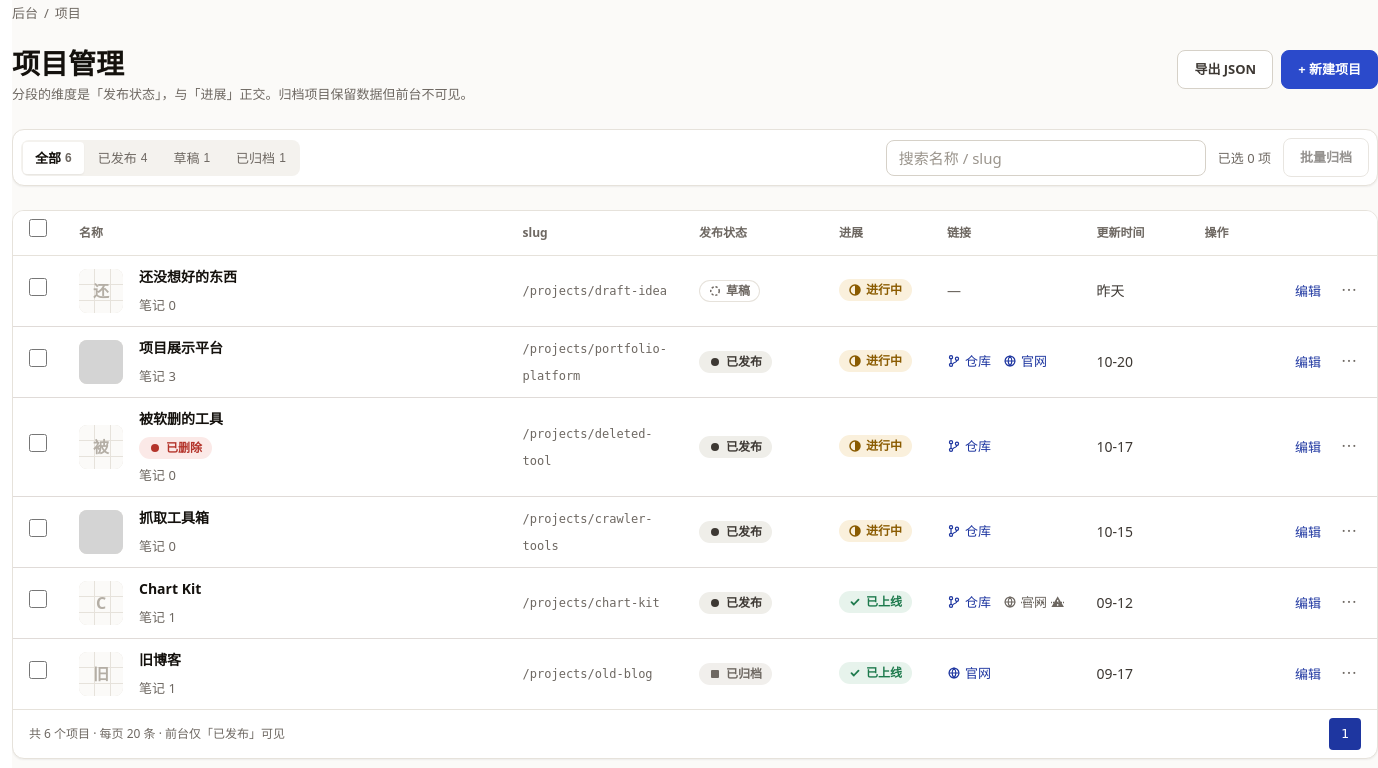
ProjectListView › 批量归档：确认后把选中项全部归档
The image size is (1378, 768).
Expected: the link "项目展示平台" is shown, [139,334,223,360]
Click the checkbox named "选择 项目展示平台": (38, 358) [29,348,47,366]
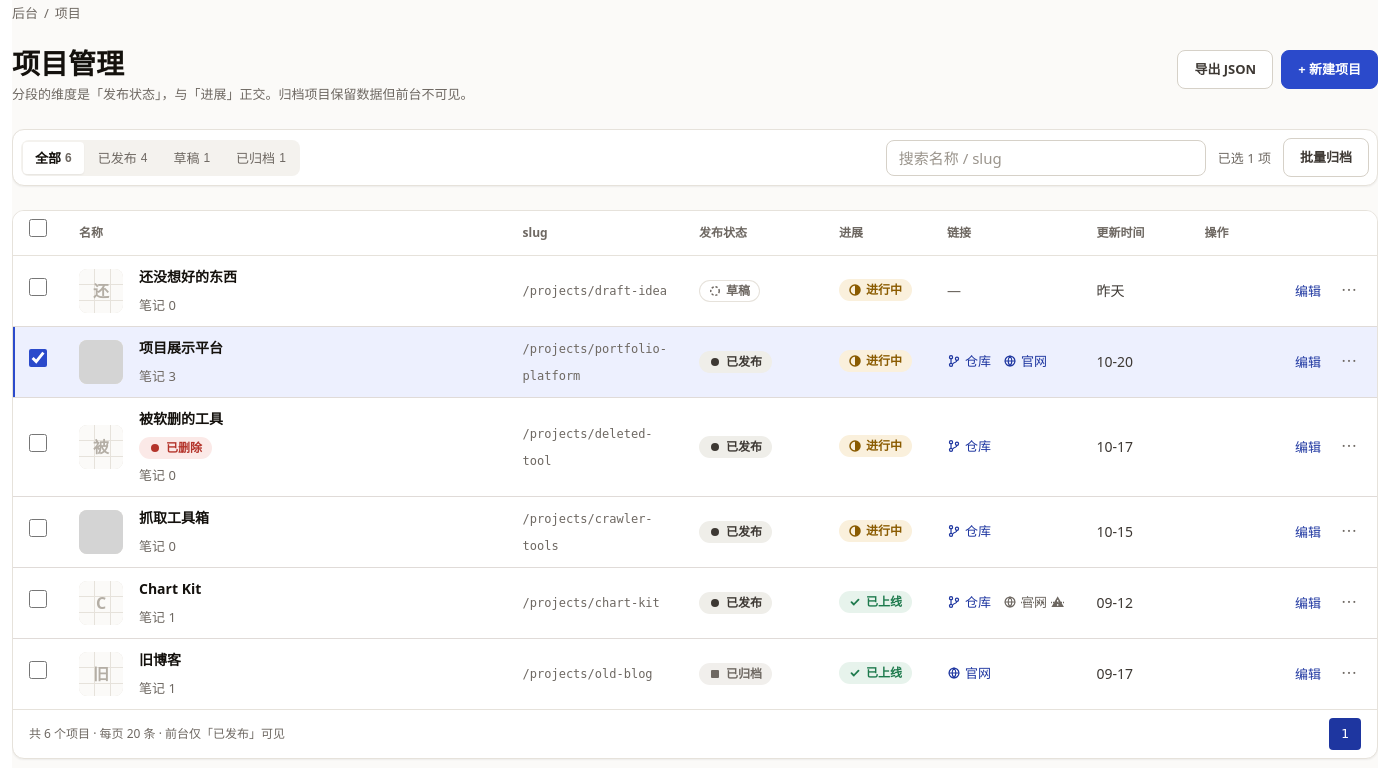
Click the button "批量归档": (1326, 158) [1283,138,1369,177]
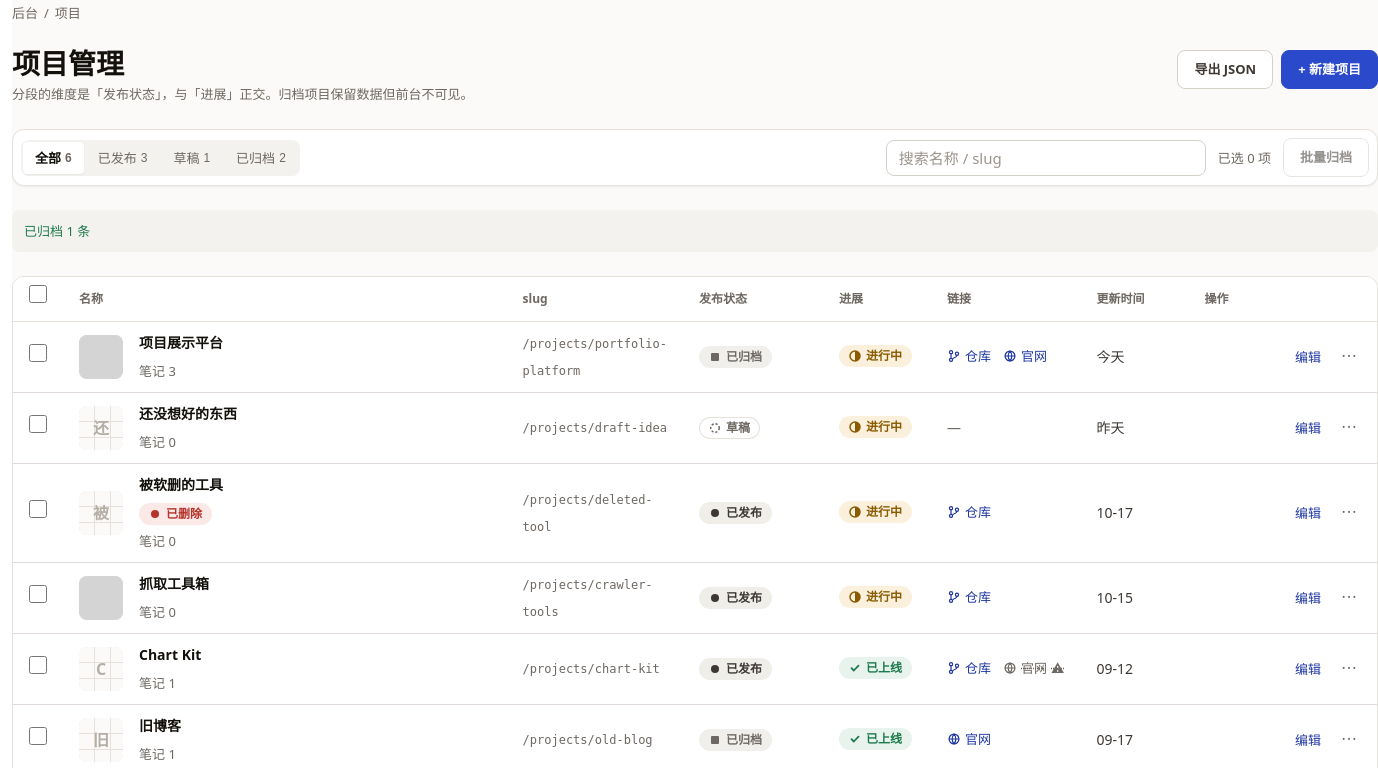
Expected: the text "已选 0 项" is shown, [1218,144,1271,170]
Expected: the row that starts with "项目展示平台" is shown, [13,321,1377,392]
Expected: the text "已归档" in the row of "项目展示平台" is shown, [726,348,762,364]
